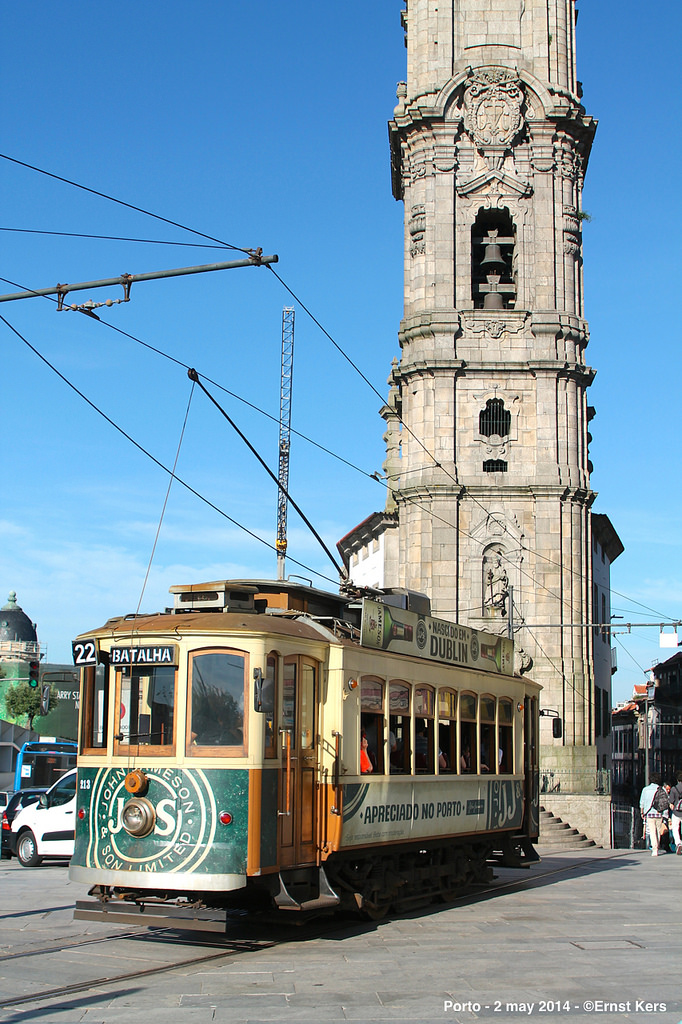clerigos: (375, 0, 603, 795)
